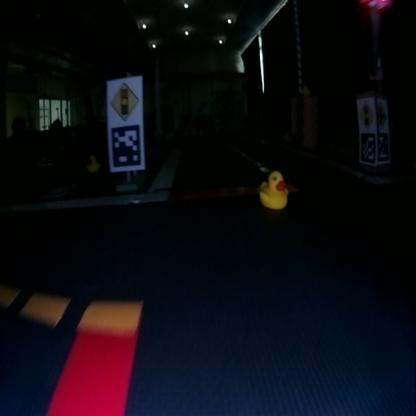Duckie: (259, 171, 288, 209), (86, 154, 99, 172)
Intersection sign: (378, 102, 388, 128)
QR code: (110, 125, 141, 168), (359, 133, 374, 164), (378, 133, 388, 163)
Signal sign: (109, 80, 139, 120), (358, 99, 374, 129)
